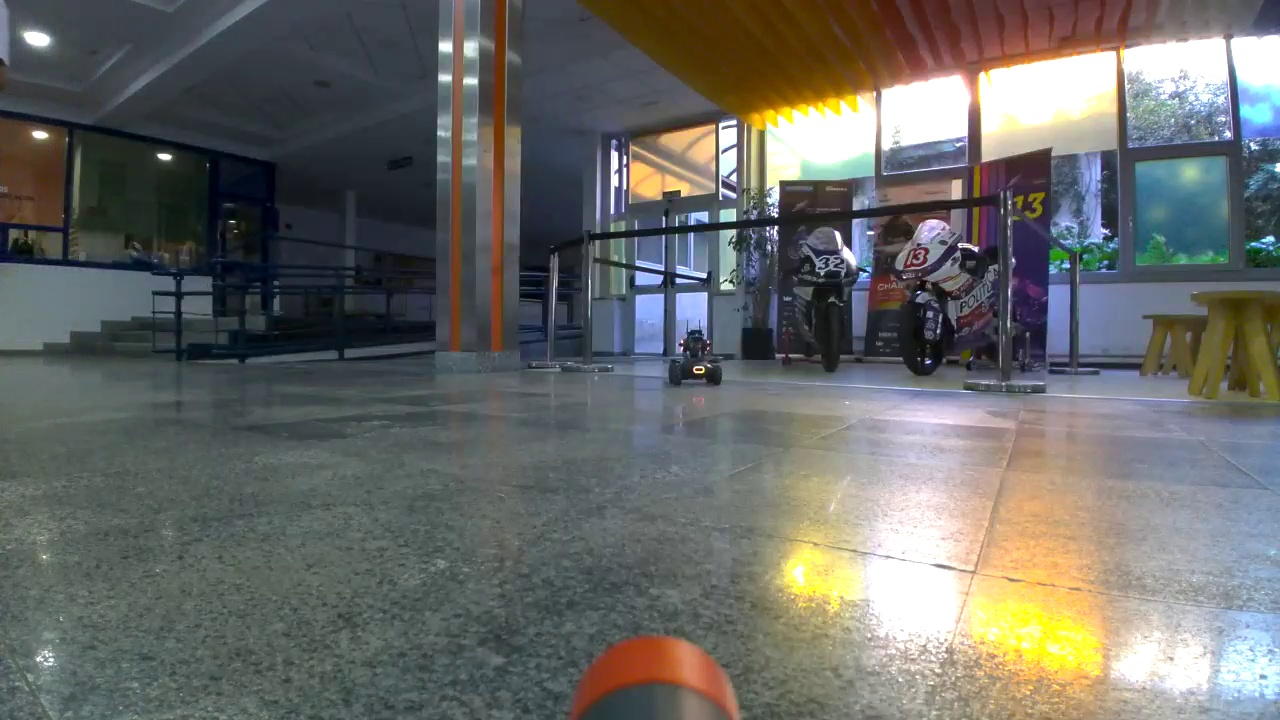robot: (669, 330, 722, 385)
